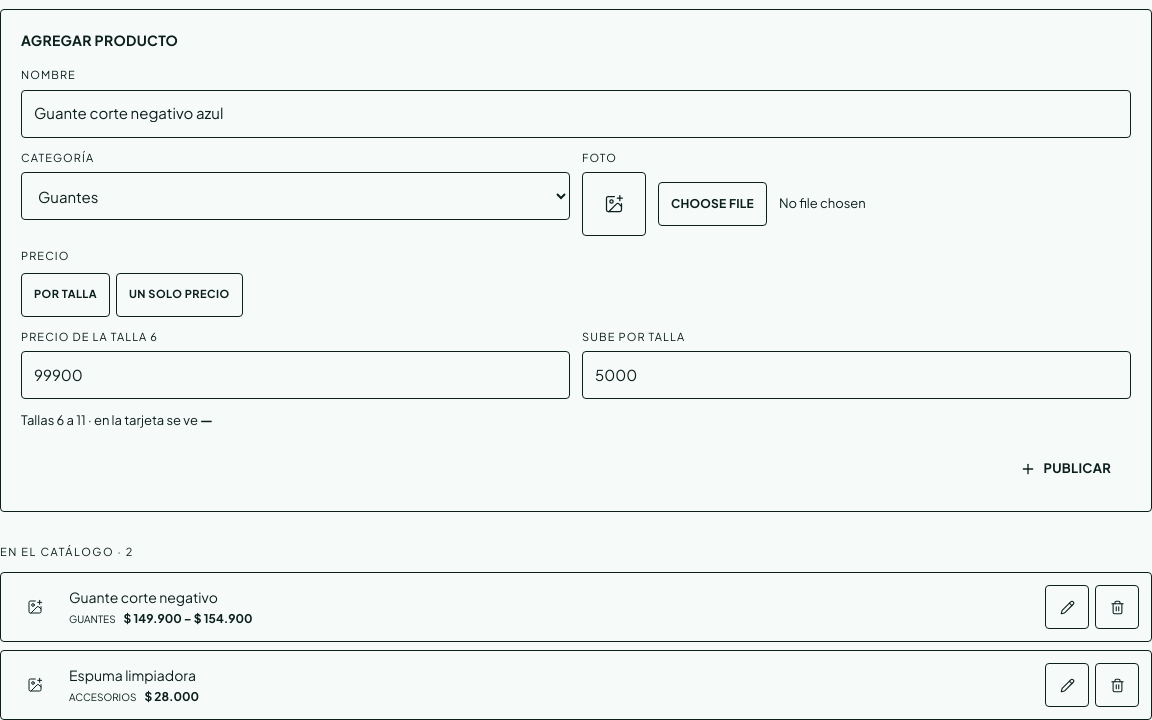
Test: PanelProductos › eliminar quita la fila del catálogo
The width and height of the screenshot is (1152, 720).
(page scrolled)
Click the button named "Eliminar Espuma limpiadora" at (1117, 685), box [1095,663,1139,707]
(page scrolled)
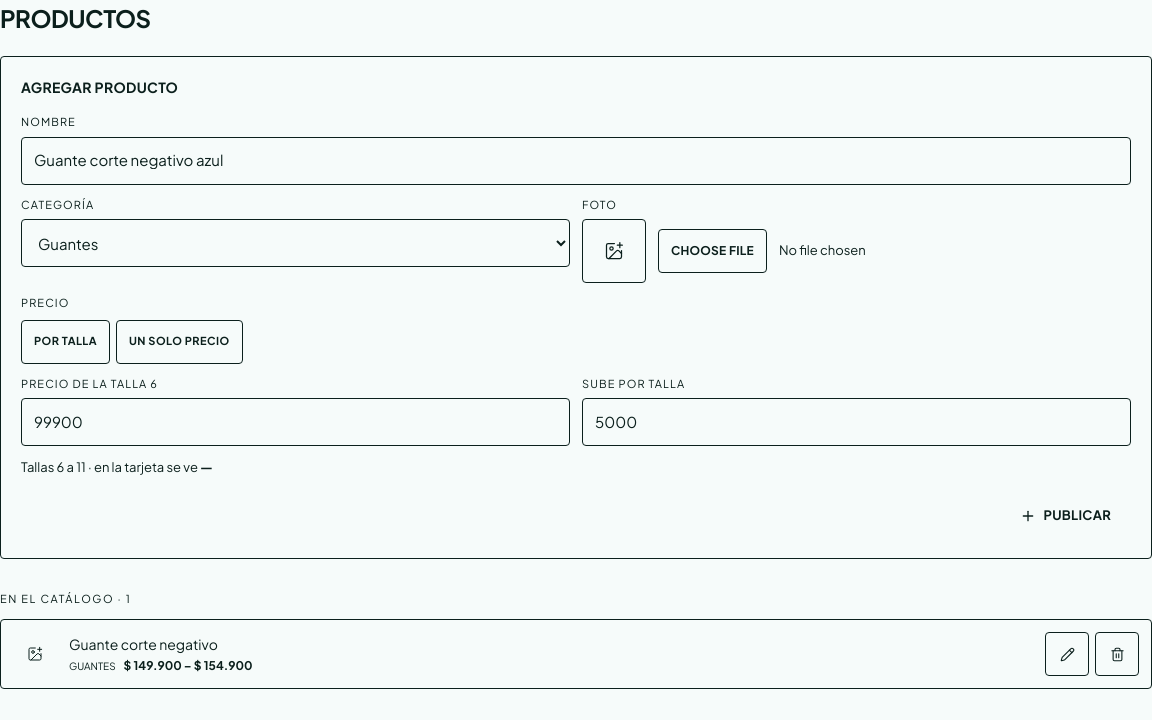
Result: the text "Espuma limpiadora" is gone
Result: the heading "En el catálogo · 1" is shown at [0,592,131,604]
